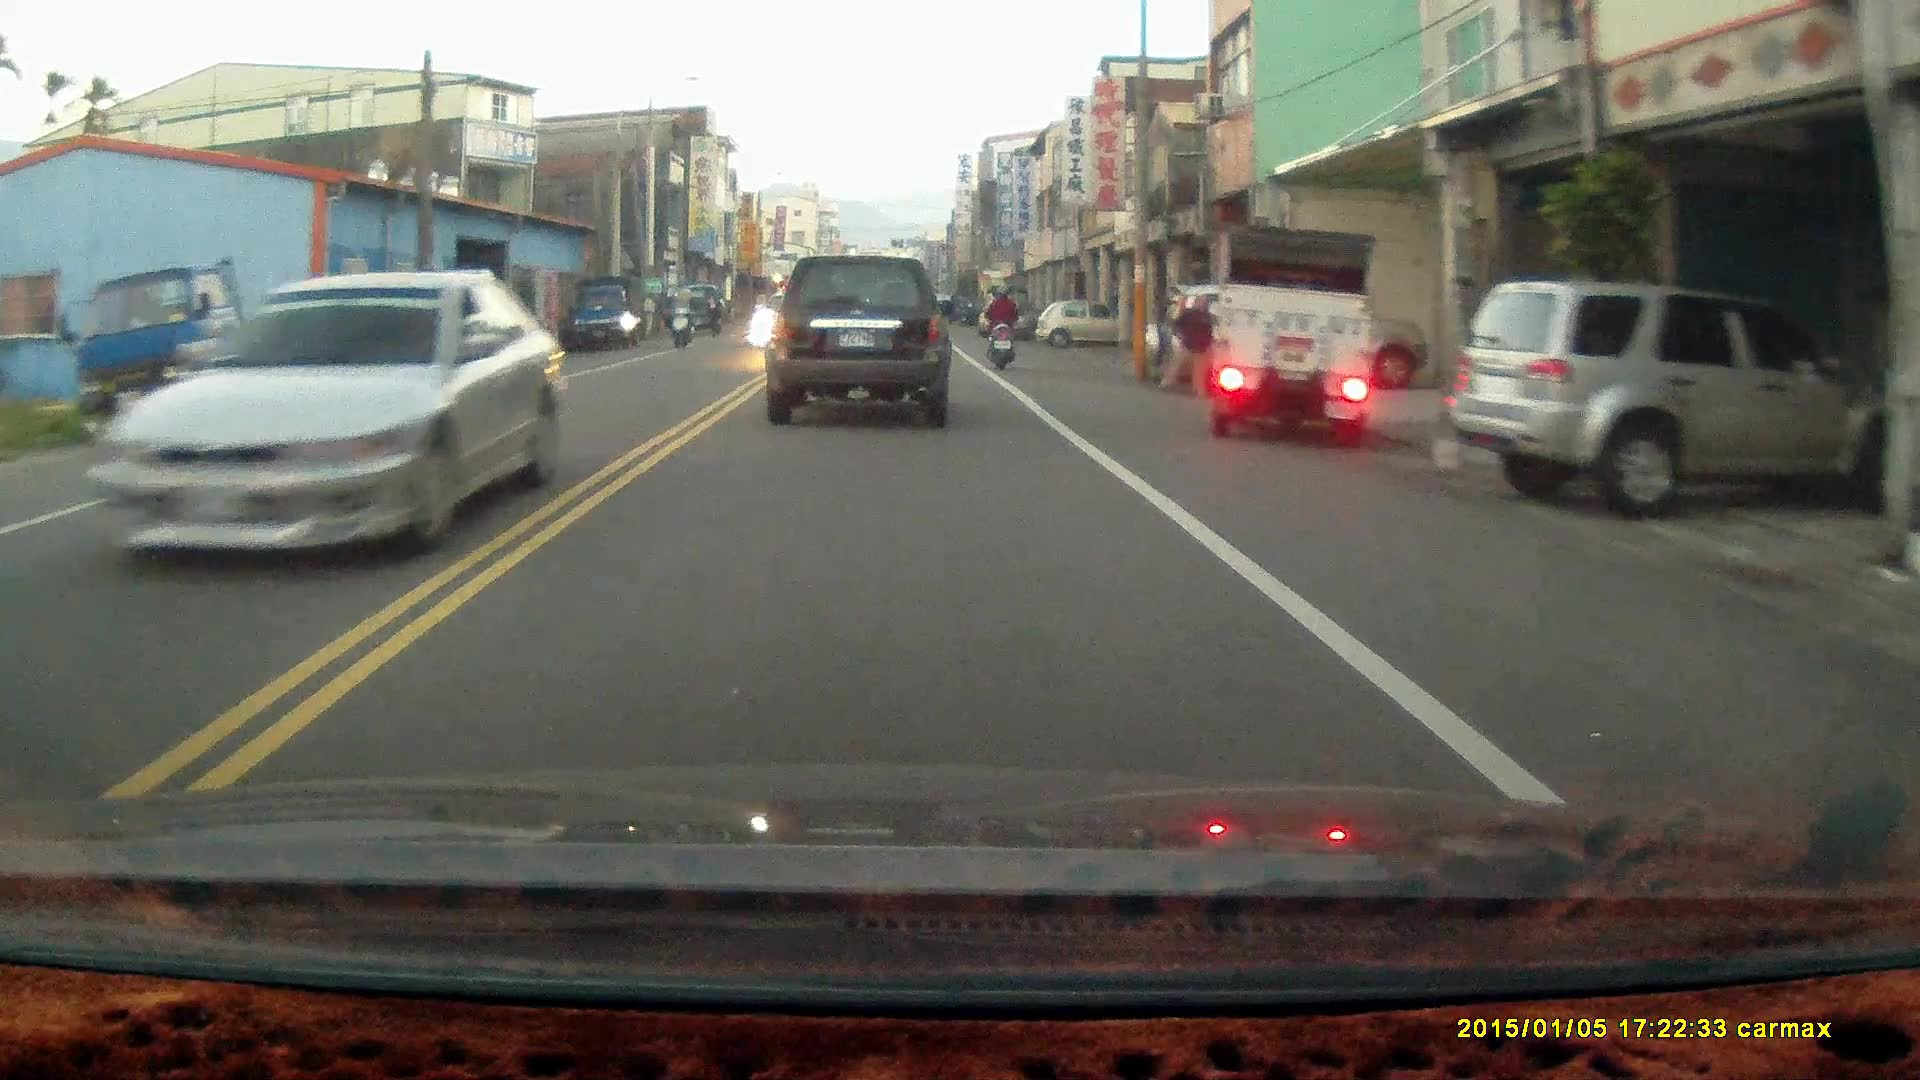pedestrian: (1157, 292, 1212, 398), (704, 289, 724, 337)
rider: (982, 280, 1018, 370), (666, 277, 699, 348)
vehicle: (94, 268, 560, 575), (1457, 279, 1896, 510), (93, 255, 323, 432), (1203, 226, 1379, 444), (1138, 277, 1432, 398), (766, 251, 955, 427), (572, 272, 645, 352), (1040, 302, 1118, 354)
